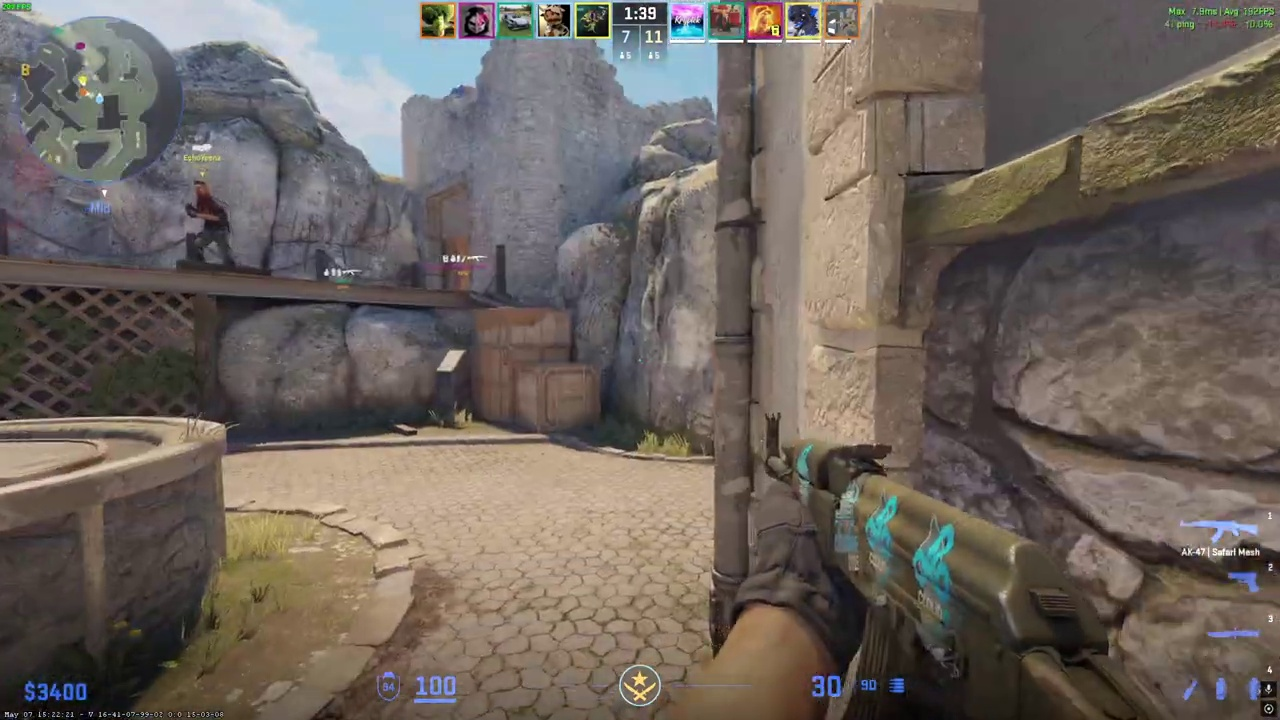Terrorist: (186, 180, 235, 265)
